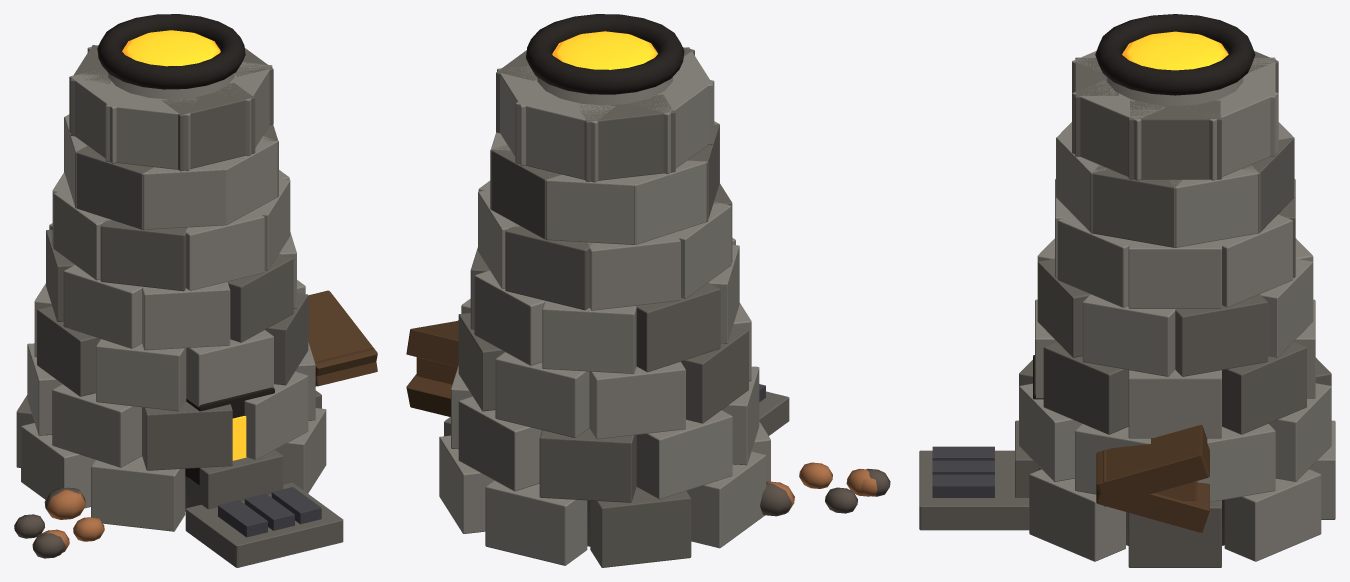
The model's file is schmelzofen.glb.
3 views of the same model, side by side, from view 1: azimuth 30°, elevation 25°; view 2: azimuth 150°, elevation 25°; view 3: azimuth 270°, elevation 25° (orthographic). The views are drawn at different scales.
Visible parts, largest first — view 1: Cube; view 2: Cube; view 3: Cube.
Part boxes in pixels (<box>): Cube: <box>14,14,377,567</box>; Cube: <box>406,14,890,567</box>; Cube: <box>919,14,1335,567</box>.
Bounding box in the file's own units: 2.08 × 2.28 × 1.87.
